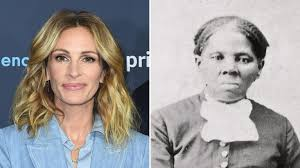white_female: (42, 20, 137, 120)
